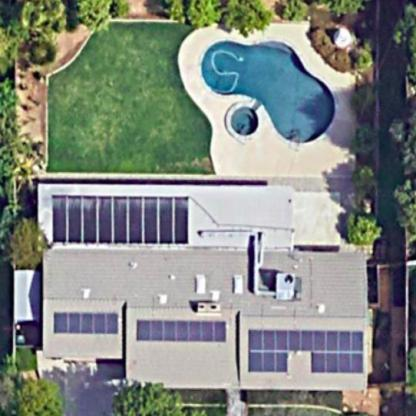solar_panel: (43, 190, 191, 251), (241, 322, 371, 377), (136, 313, 230, 347), (53, 304, 121, 347)
swimming_pool: (193, 31, 342, 150)
